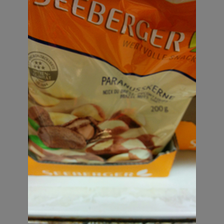nuts: (28, 1, 195, 164)
